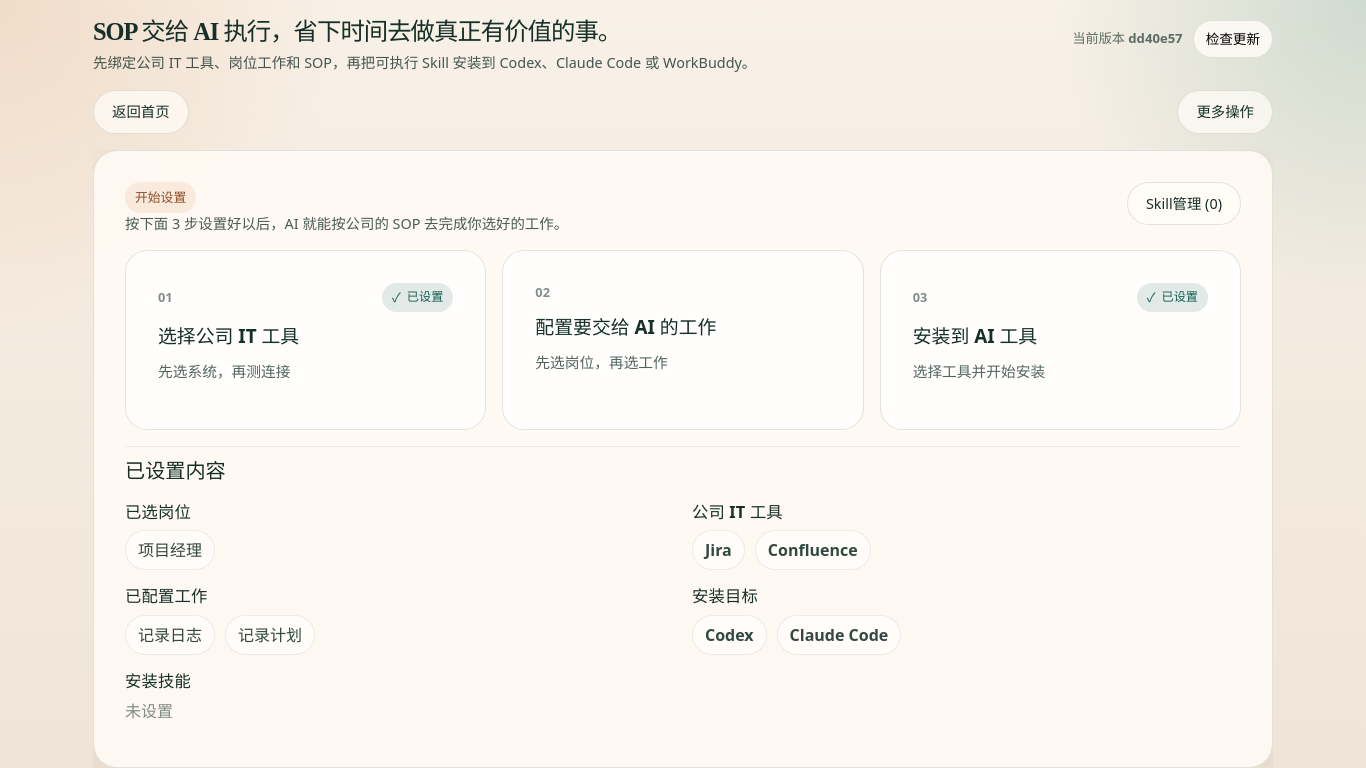
Test case: onboarding shell smoke coverage › uses skill management wording in the empty skill management state
Click the button "更多操作" at x=1225, y=112, box [1177,90,1273,134]
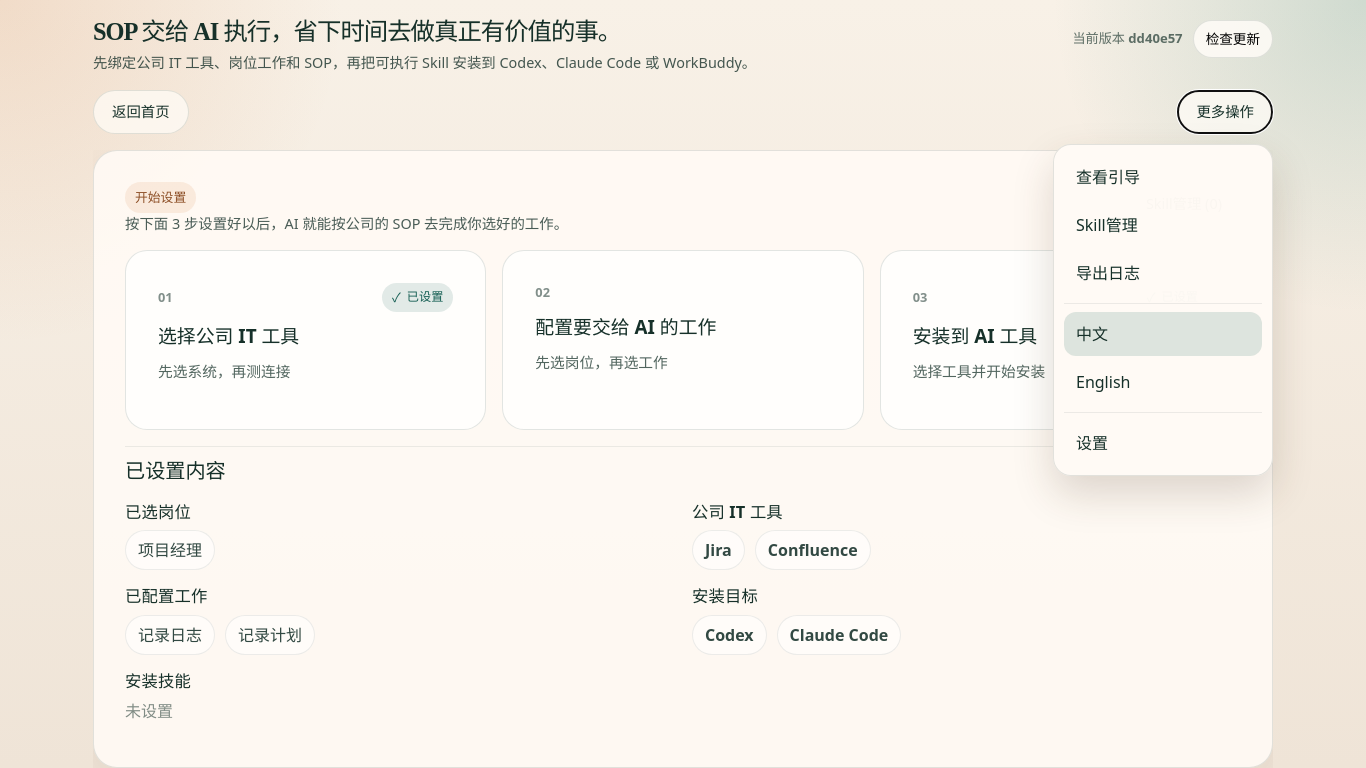
Result: the element with class "header-menu__panel" is shown at [1053,144,1273,476]
Click the button "Skill管理" at x=1163, y=225, box [1064,203,1262,247]
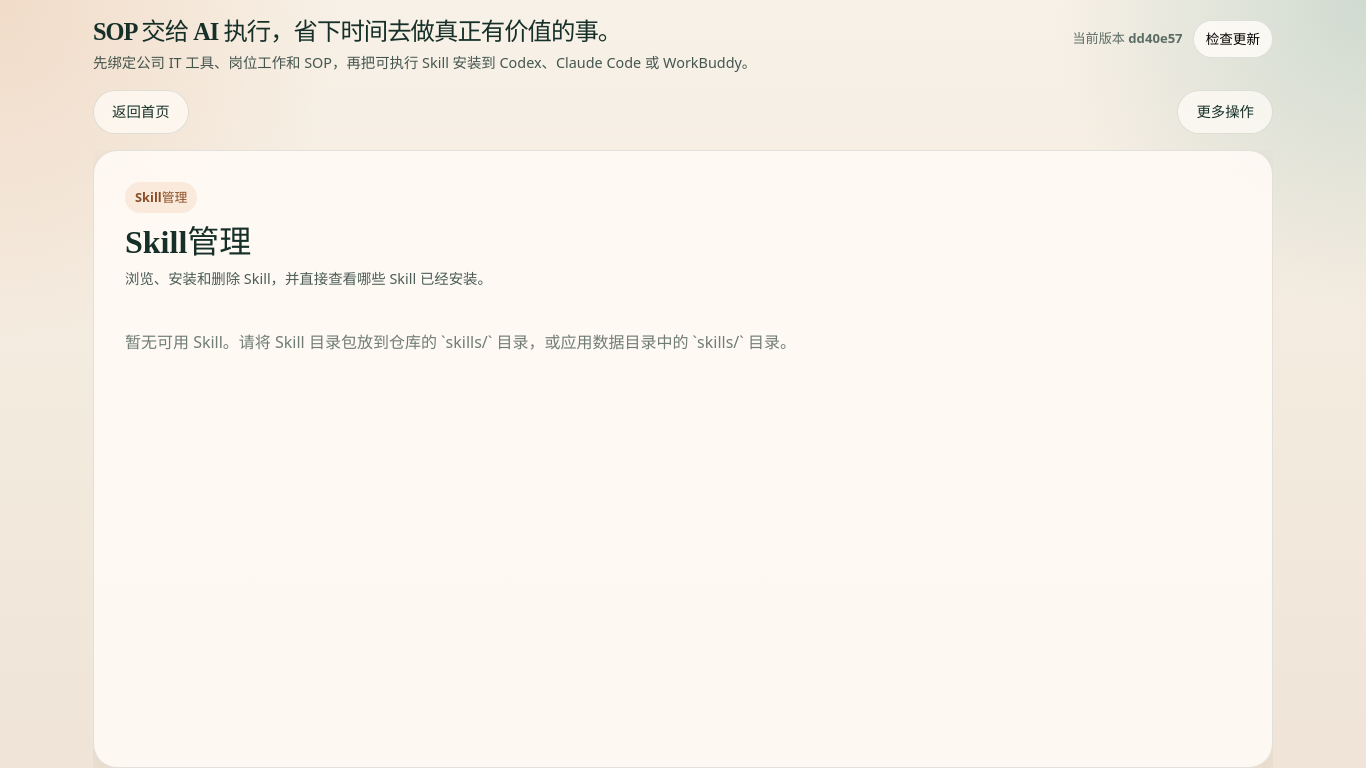
Result: the heading "Skill管理" is shown at [125,224,251,260]
Result: the text "暂无可用 Skill。请将 Skill 目录包放到仓库的 `skills/` 目录，或应用数据目录中的 `skills/` 目录。" is shown at [125,331,796,353]
